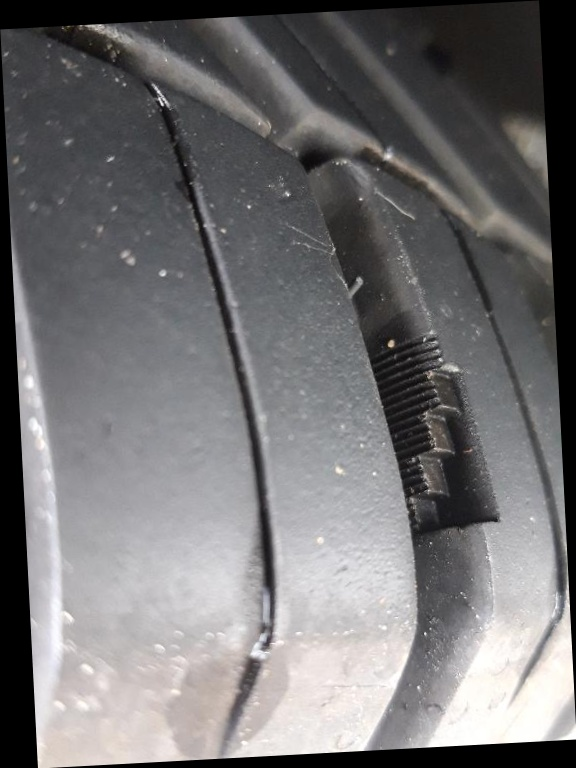temoin:90: (360, 321, 511, 549)
